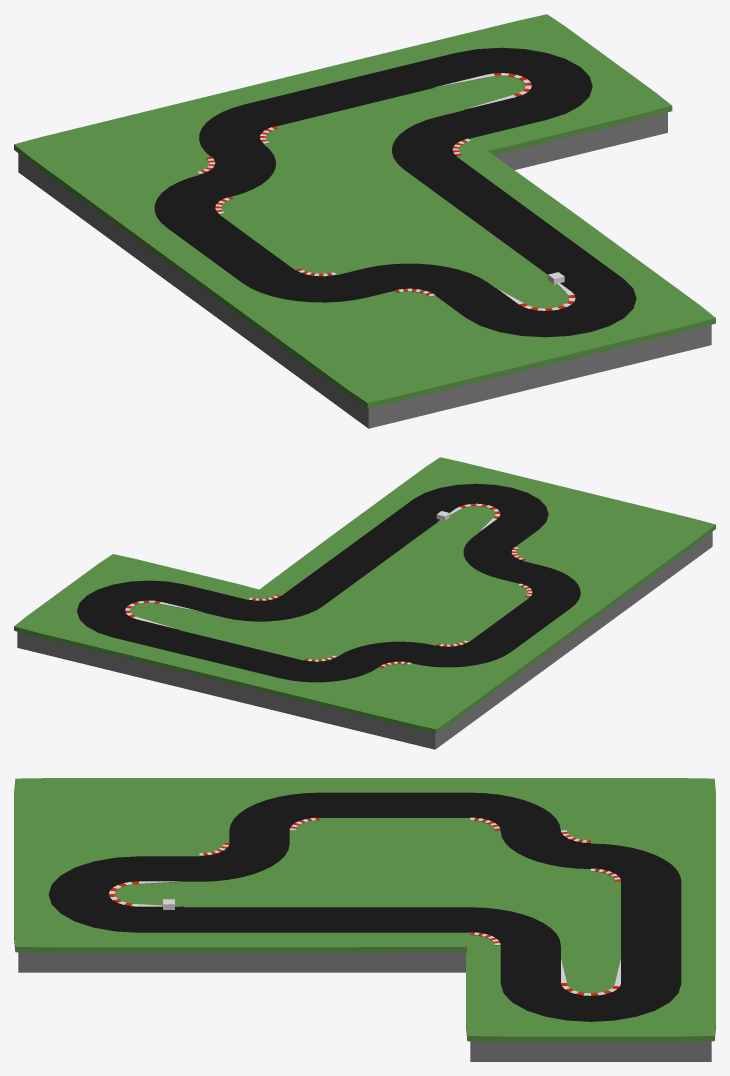
Rendered from track.glb.
3 views of the same model, one above another, from view 1: azimuth 30°, elevation 25°; view 2: azimuth 150°, elevation 25°; view 3: azimuth 270°, elevation 25° (orthographic). The views are drawn at different scales.
Parts seen in each view (by area): view 1: Cube; view 2: Cube; view 3: Cube.
Part boxes in pixels (x1,y1,x2,y2): Cube: (14, 14, 715, 428); Cube: (14, 457, 715, 749); Cube: (14, 778, 715, 1061).
Size of the model in its own units: 101 by 6 by 116.
1 material, 1 textured.
